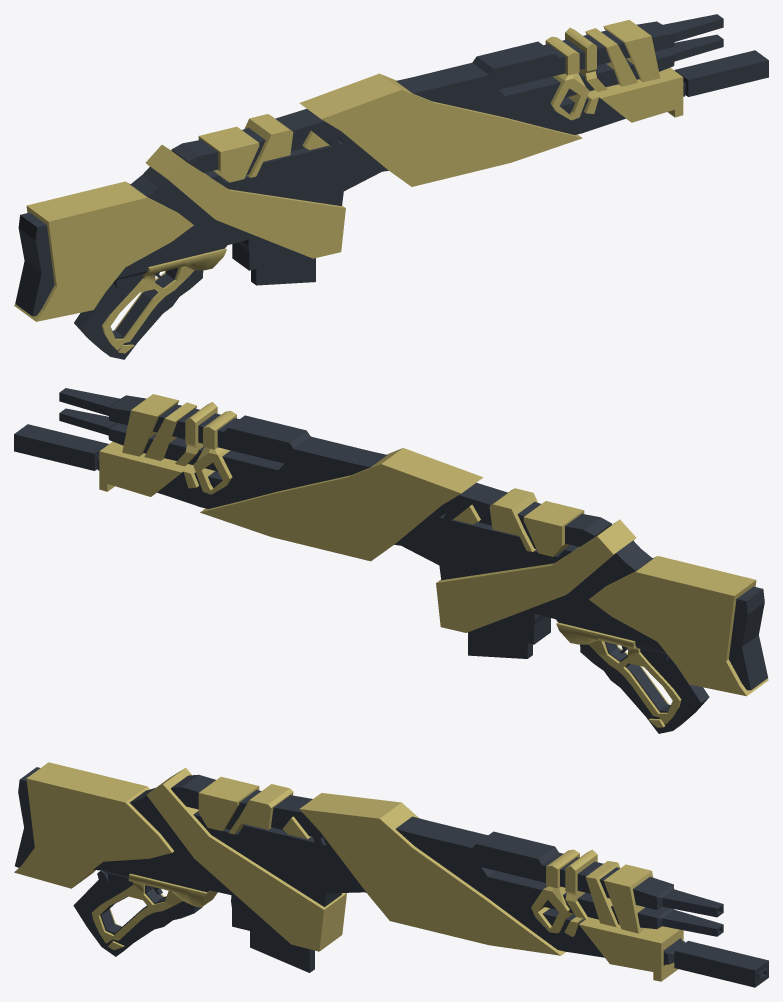
The model's file is SM_gunnerWeapon.fbx.
3 views of the same model, one above another, from view 1: azimuth 30°, elevation 25°; view 2: azimuth 150°, elevation 25°; view 3: azimuth 330°, elevation 25° (orthographic).
Parts seen in each view (by area): view 1: SM_gunnerWeaponBase, SM_AmmoCartridge; view 2: SM_gunnerWeaponBase, SM_AmmoCartridge; view 3: SM_gunnerWeaponBase, SM_AmmoCartridge.
Boxes of the visible parts, bbox=[...] form: SM_gunnerWeaponBase: bbox=[14, 14, 768, 359]; SM_AmmoCartridge: bbox=[251, 256, 315, 285]; SM_gunnerWeaponBase: bbox=[14, 388, 768, 733]; SM_AmmoCartridge: bbox=[468, 630, 532, 658]; SM_gunnerWeaponBase: bbox=[14, 762, 768, 987]; SM_AmmoCartridge: bbox=[250, 931, 314, 972].
Size of the model in its own units: 163 by 44.01 by 8.76.
